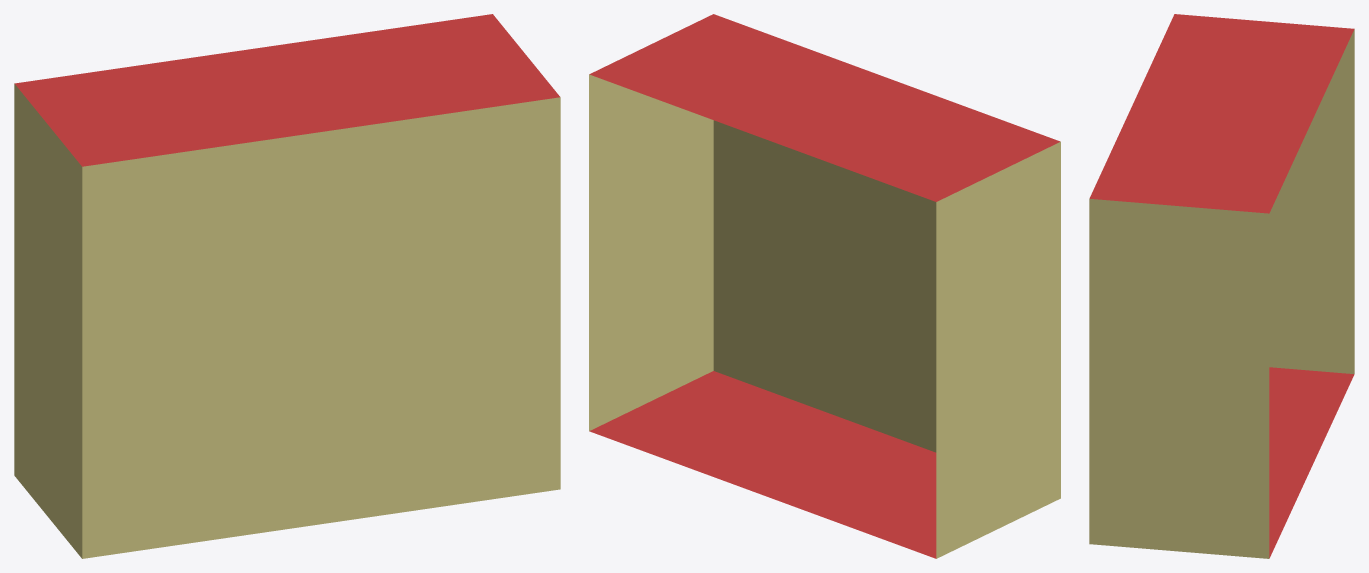
The picture shows the model from 3 angles, left to right: view 1: azimuth 30°, elevation 25°; view 2: azimuth 150°, elevation 25°; view 3: azimuth 270°, elevation 25°; orthographic projection. The views are drawn at different scales.
Bounding box in the file's own units: 6.39 × 3.59 × 5.16.
